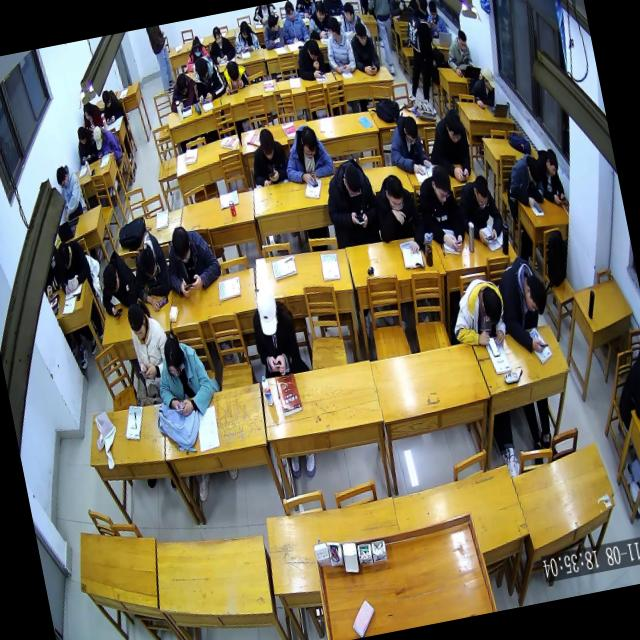bow: (124, 229, 177, 318), (93, 247, 143, 321), (500, 150, 550, 216), (164, 67, 200, 116), (179, 34, 212, 74), (220, 58, 252, 98)
down: (252, 284, 284, 338), (520, 272, 552, 322), (160, 334, 190, 382), (478, 283, 508, 331), (428, 162, 456, 208), (381, 172, 409, 218), (168, 223, 196, 269), (124, 300, 151, 346), (339, 160, 366, 202), (136, 245, 162, 283), (470, 173, 494, 214), (297, 123, 322, 162), (442, 108, 466, 148), (256, 126, 280, 164), (100, 261, 124, 298), (400, 114, 422, 148), (524, 154, 546, 188), (55, 240, 75, 272), (543, 147, 562, 180), (192, 56, 212, 84), (354, 20, 372, 50), (305, 37, 323, 64), (481, 66, 498, 94), (55, 165, 72, 192), (174, 72, 191, 99), (90, 124, 106, 152), (225, 60, 242, 84), (282, 0, 299, 24), (313, 0, 329, 23), (456, 28, 470, 54), (76, 125, 90, 148), (81, 100, 95, 123), (190, 36, 204, 59), (238, 19, 252, 42), (100, 88, 114, 110), (426, 0, 440, 22), (211, 26, 224, 48)
sit: (491, 250, 559, 360), (148, 324, 220, 426), (318, 154, 384, 253), (244, 280, 306, 380), (124, 294, 178, 404), (158, 216, 226, 302), (411, 160, 469, 260), (444, 274, 512, 357), (368, 168, 428, 262), (394, 0, 447, 105), (421, 105, 478, 188), (453, 170, 508, 252), (277, 119, 337, 192), (382, 109, 432, 180), (245, 124, 292, 190), (51, 234, 95, 297), (318, 10, 358, 77), (609, 352, 640, 431), (346, 16, 384, 78), (188, 50, 228, 106), (534, 146, 568, 211), (54, 160, 89, 222), (441, 26, 476, 80), (292, 34, 329, 84), (466, 64, 502, 112), (276, 0, 311, 47), (90, 120, 124, 166), (204, 22, 238, 66), (303, 0, 335, 43), (72, 121, 100, 168), (258, 11, 287, 52), (230, 18, 261, 56), (98, 86, 126, 125), (336, 0, 365, 37), (423, 0, 448, 40), (78, 97, 105, 134), (384, 0, 409, 18)
